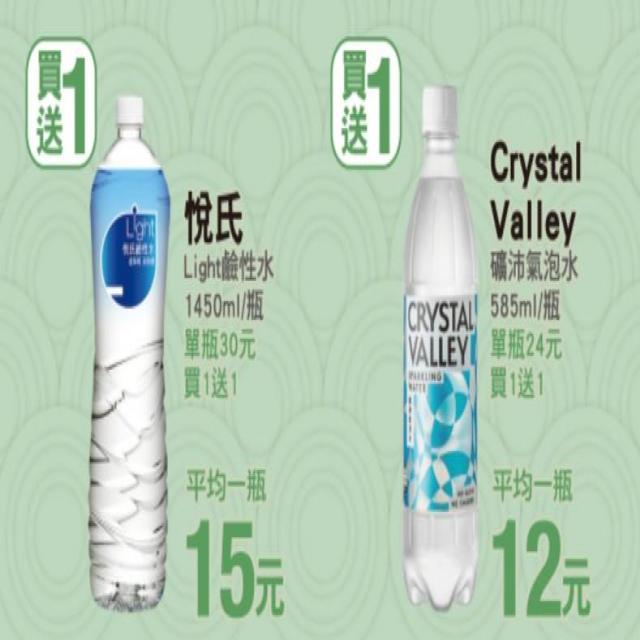bottle: (392, 36, 485, 626), (90, 64, 188, 616)
